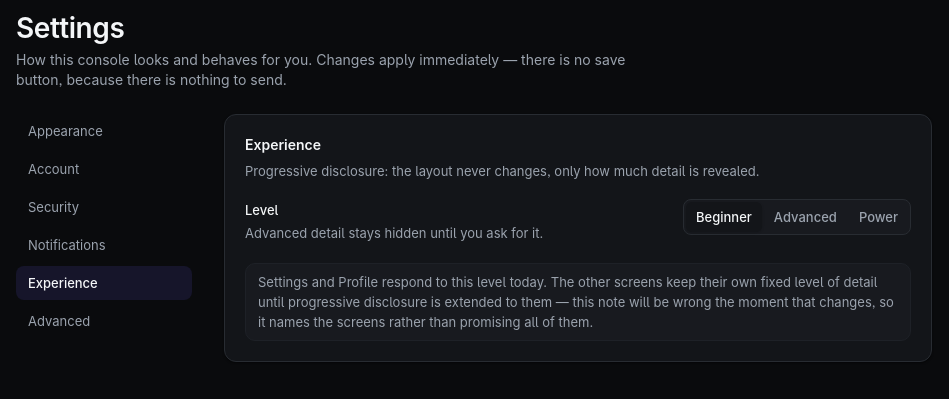
Test case: Settings — Experience level is CONSUMED, not merely stored (D6) › reveals detail that Beginner hides
Click the radio button labelled "Advanced" at (805, 217), box [764,202,847,232]
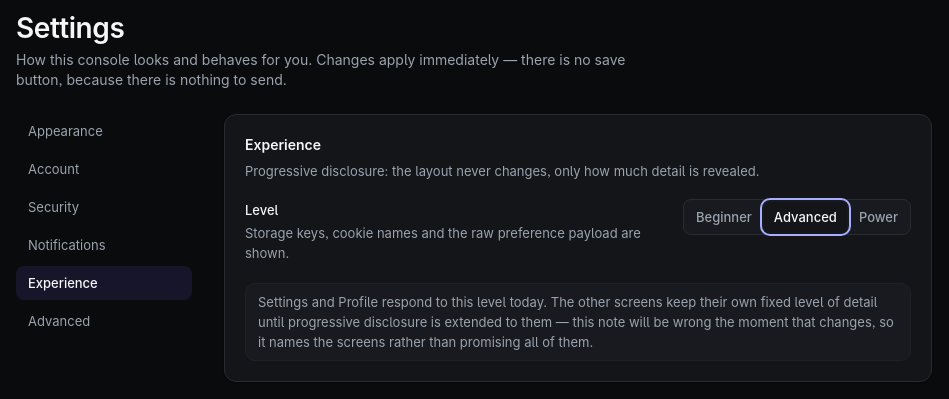
Expected: the text "Storage keys, cookie names and the raw preference payload" is shown, [245,225,641,261]
